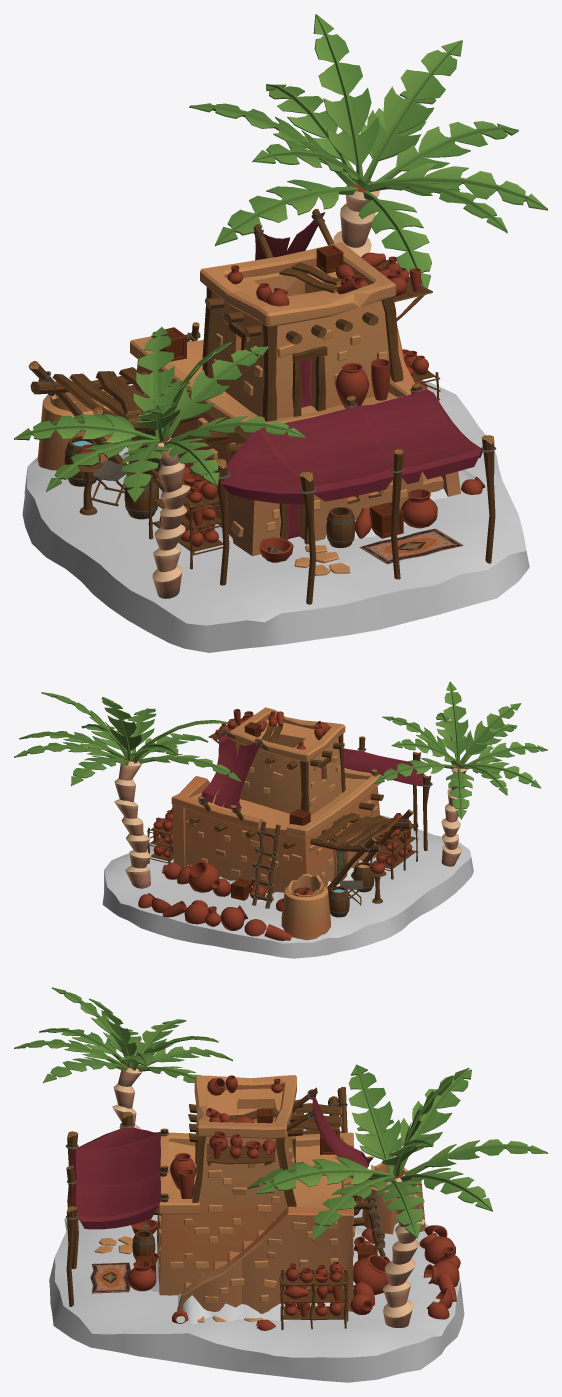
The picture shows the model from 3 angles, top to bottom: view 1: azimuth 30°, elevation 25°; view 2: azimuth 150°, elevation 25°; view 3: azimuth 270°, elevation 25°; orthographic projection. The views are drawn at different scales.
Parts seen in each view (by area): view 1: Pottery, GroundPlane; view 2: Pottery, GroundPlane; view 3: Pottery, GroundPlane.
Part boxes in pixels (bbox=[...]): Pottery: bbox=[14, 14, 547, 604]; GroundPlane: bbox=[22, 382, 529, 652]; Pottery: bbox=[14, 681, 547, 940]; GroundPlane: bbox=[102, 815, 473, 958]; Pottery: bbox=[14, 987, 547, 1330]; GroundPlane: bbox=[49, 1209, 464, 1382].
Size of the model in its own units: 1911 by 1019 by 1699.
